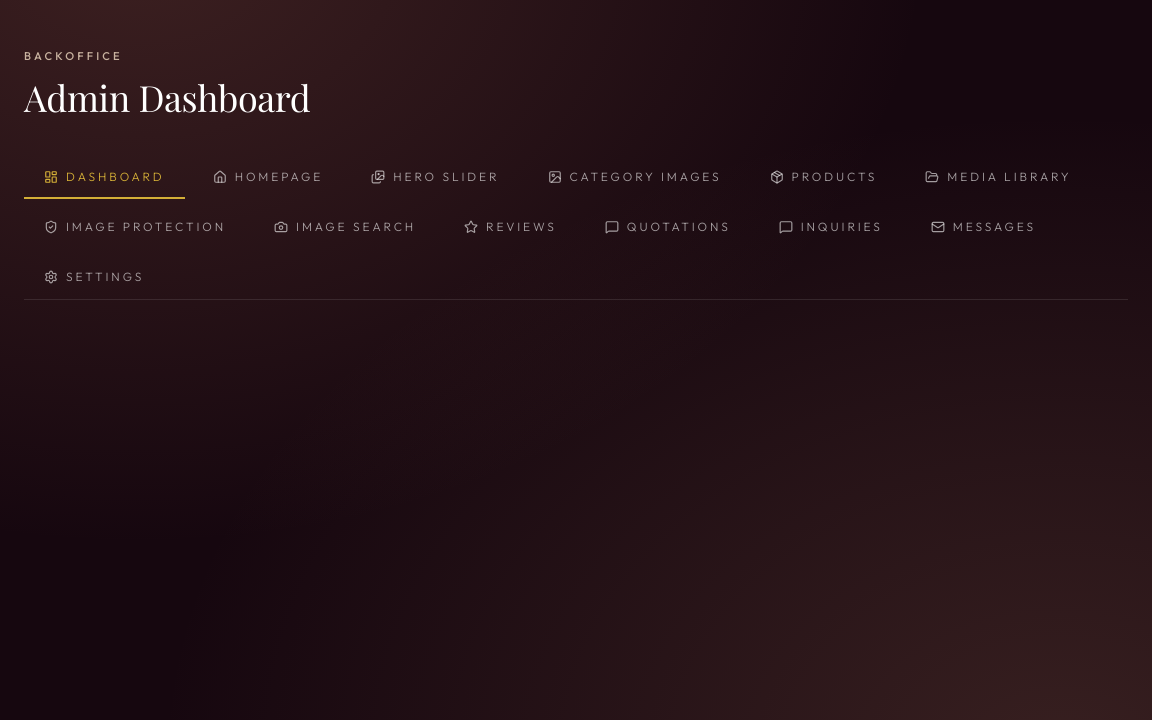
it: Admin Enquiries — deletion controls › confirming a single delete calls the DELETE endpoint and refetches
The image size is (1152, 720).
Later steps or results of the test are not shown.
Step 1. Click the button with test id "admin-tab-inquiries" → (831, 228), box [759, 207, 903, 249]
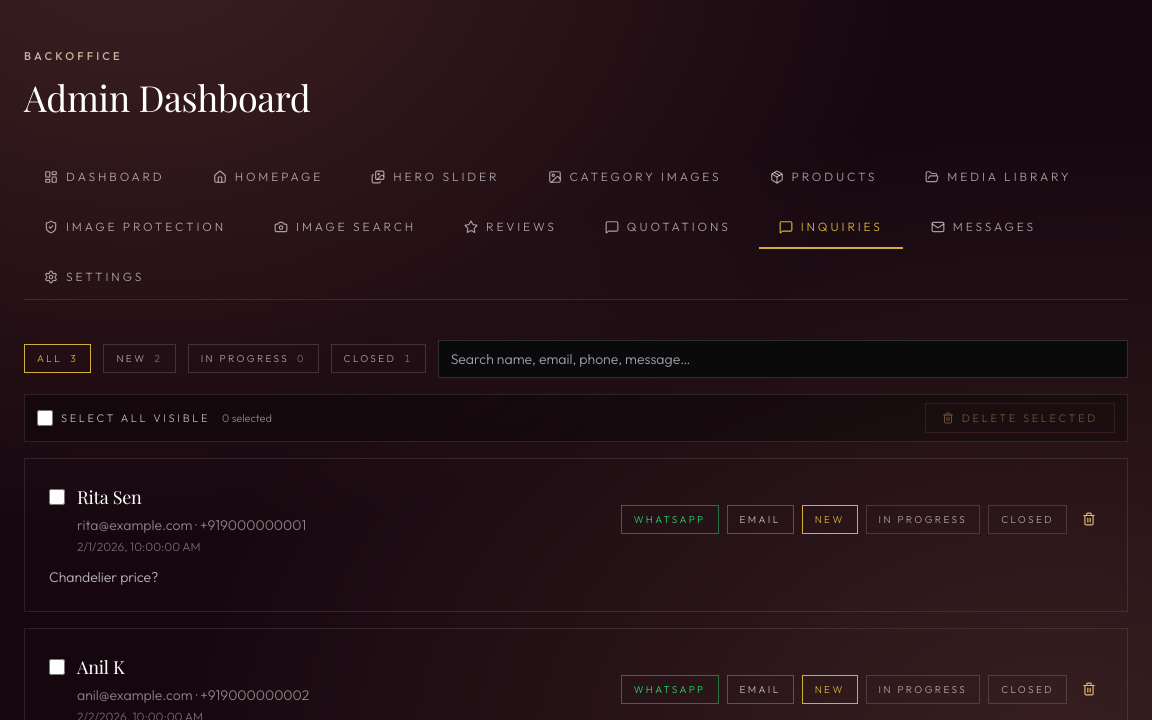
Expected: the element with test id "inq-inq-1" is shown, [24, 458, 1128, 612]
Step 2. Click the button with test id "inq-delete-inq-1" → (1089, 519), box [1075, 505, 1103, 533]
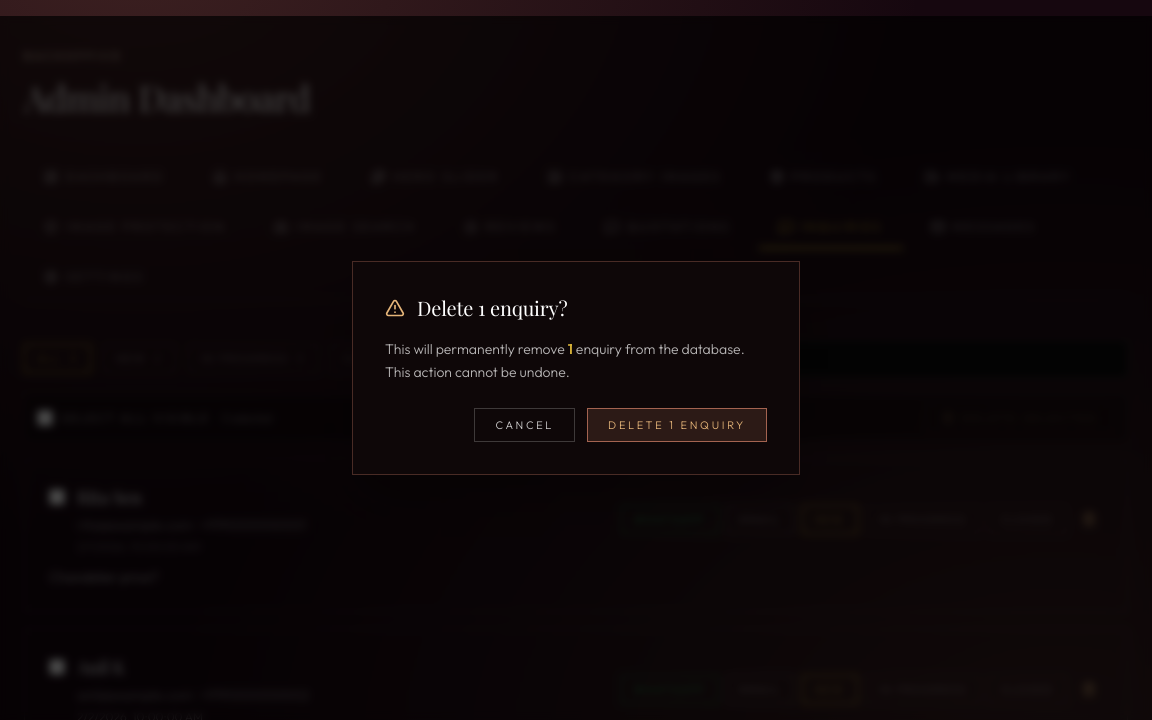
Expected: the dialog with test id "inq-delete-modal" is shown
